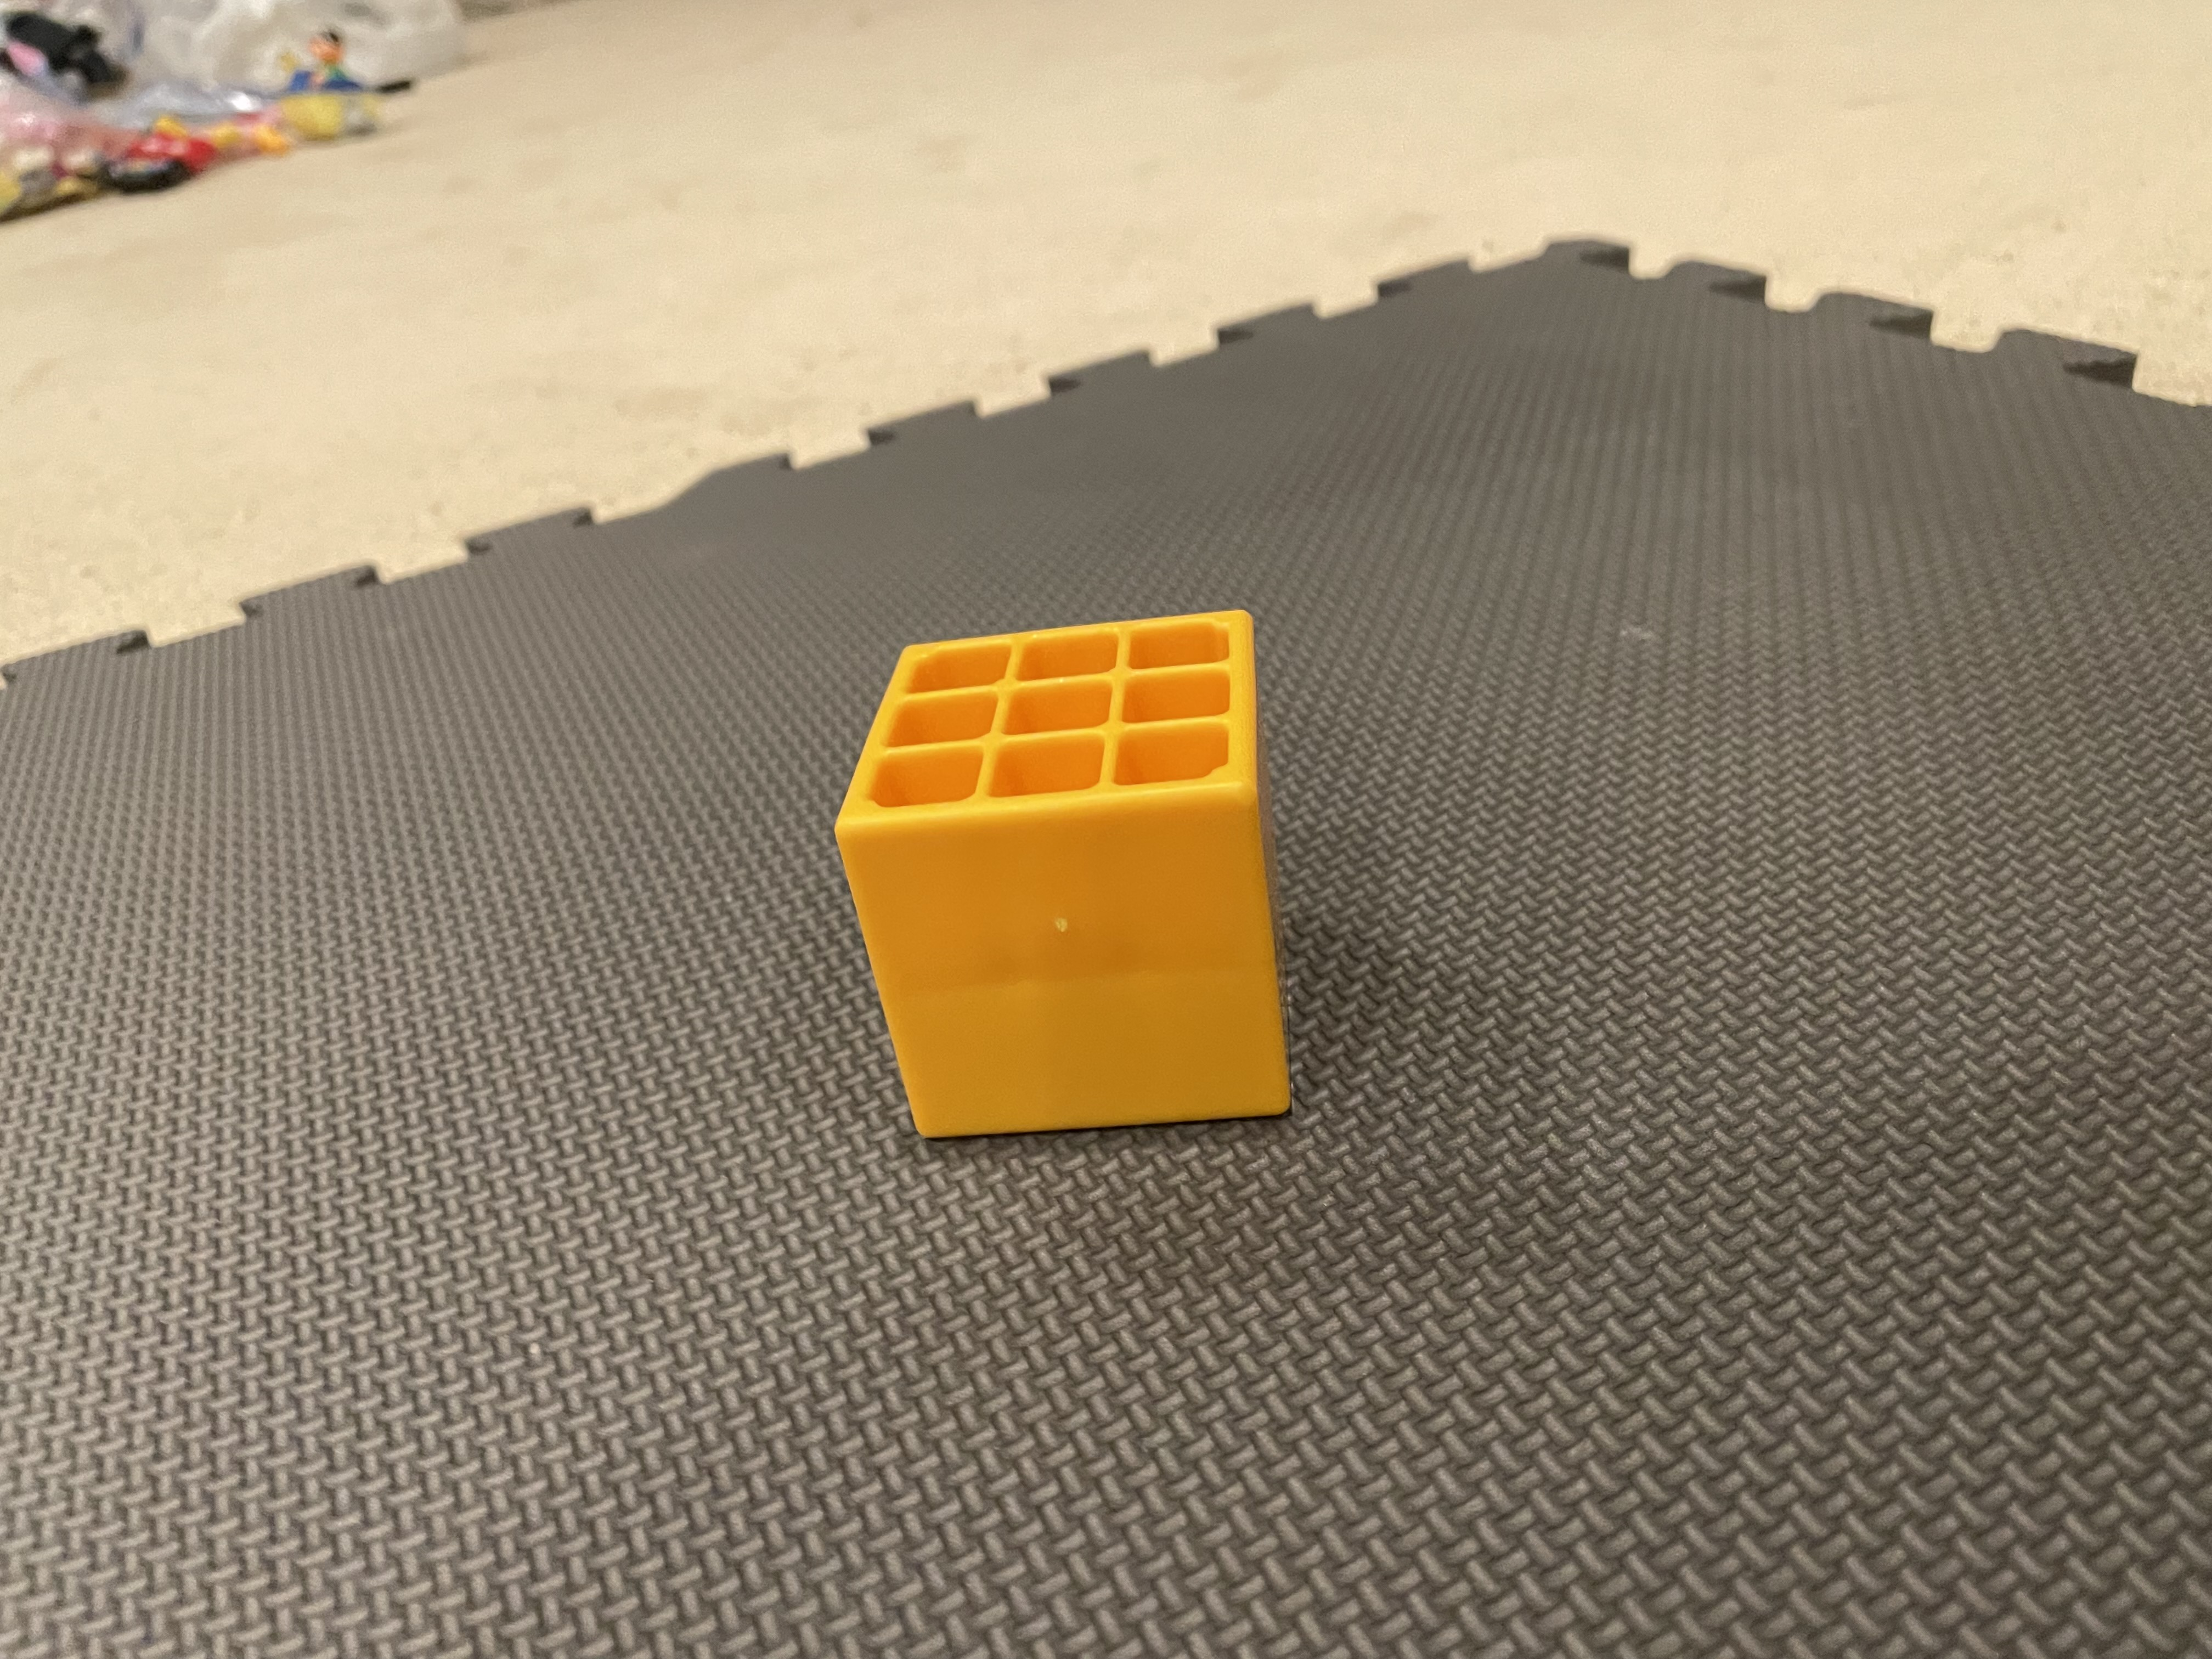cube: (786, 563, 1374, 1190)
